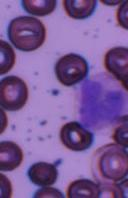N: (73, 72, 128, 130)
